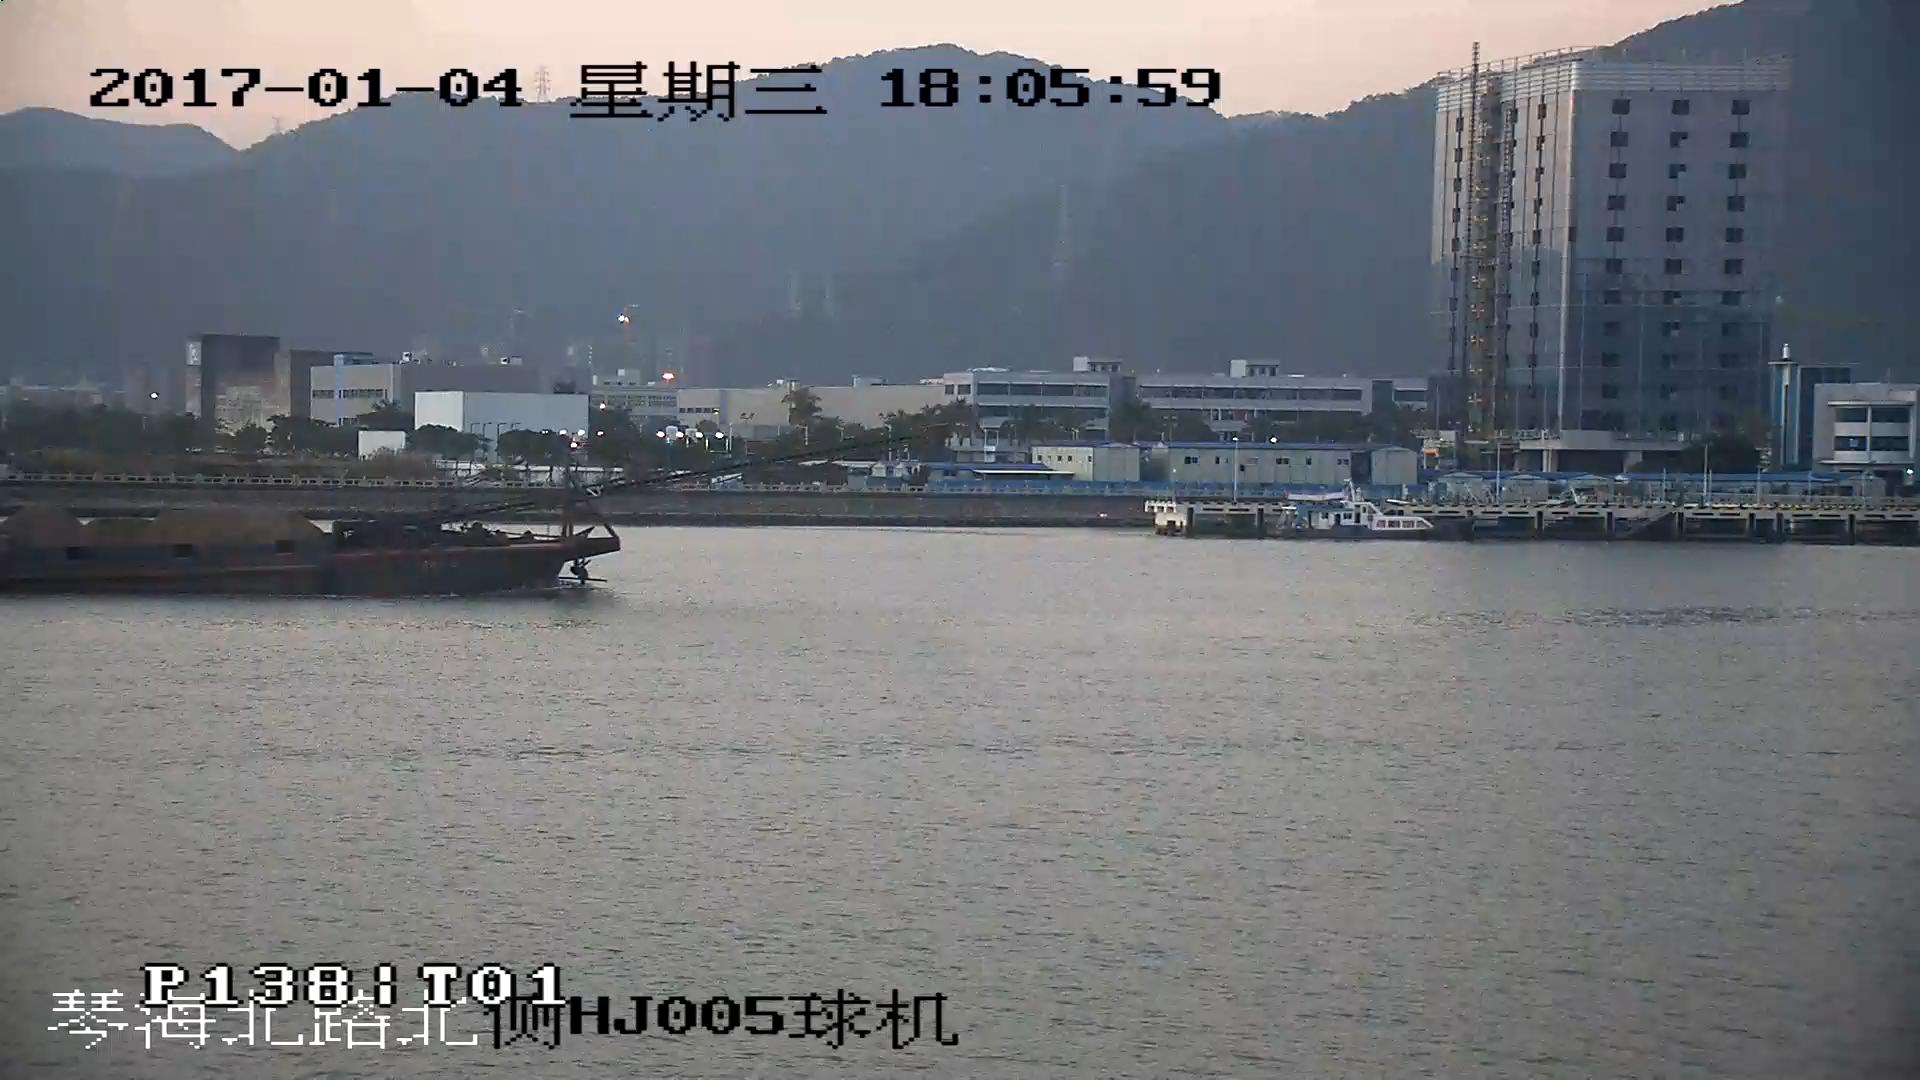ore carrier: (1, 444, 854, 595)
